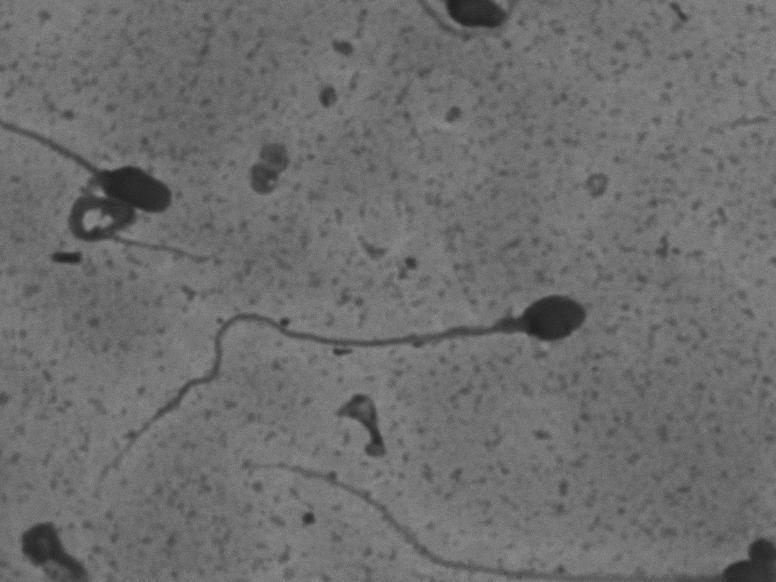Abnormal: (78, 274, 596, 489), (12, 97, 238, 276)
